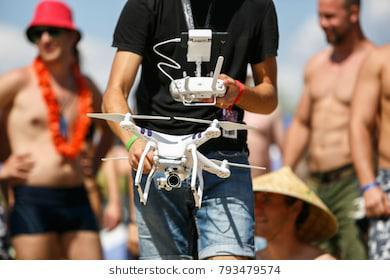drone: (81, 104, 270, 210)
